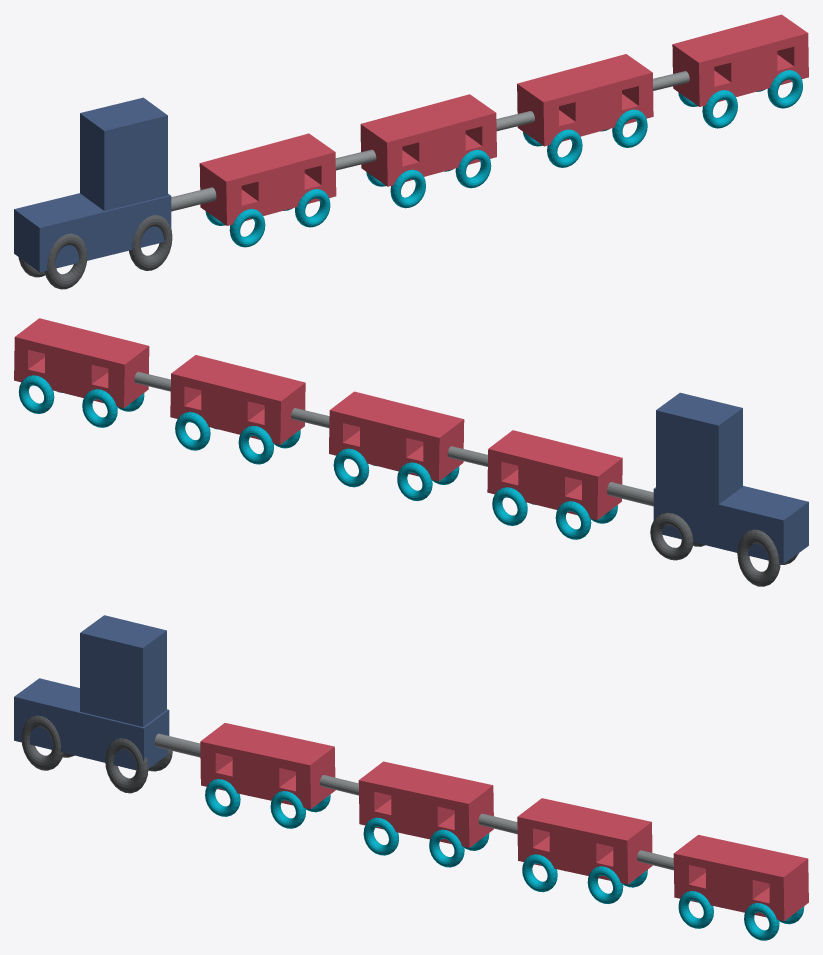
File: project150.glb
3 views of the same model, one above another, from view 1: azimuth 30°, elevation 25°; view 2: azimuth 150°, elevation 25°; view 3: azimuth 330°, elevation 25° (orthographic).
Parts seen in each view (by area): view 1: Mesh_Mesh_head_geo.001_lambert2SG.001; view 2: Mesh_Mesh_head_geo.001_lambert2SG.001; view 3: Mesh_Mesh_head_geo.001_lambert2SG.001.
Boxes of the visible parts, bbox=[...] form: Mesh_Mesh_head_geo.001_lambert2SG.001: bbox=[14, 14, 808, 289]; Mesh_Mesh_head_geo.001_lambert2SG.001: bbox=[14, 318, 808, 586]; Mesh_Mesh_head_geo.001_lambert2SG.001: bbox=[14, 615, 808, 940].
Bounding box in the file's own units: 365 × 69 × 29.75.
